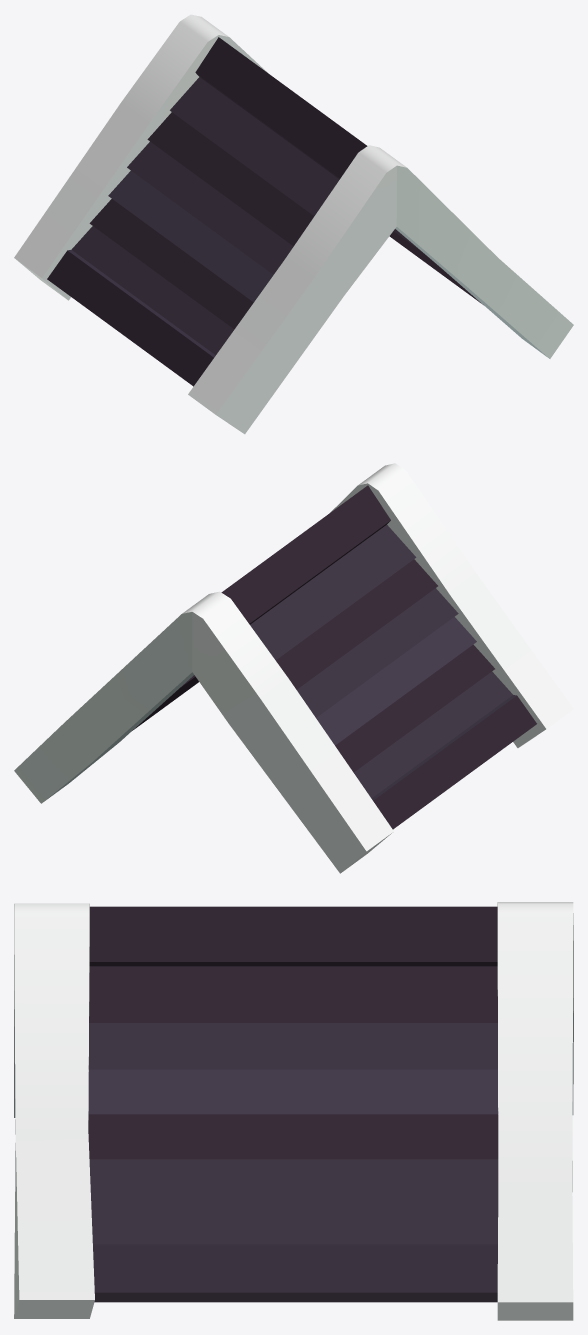
Rendered from Roof03_Black_White.glb.
3 views of the same model, one above another, from view 1: azimuth 30°, elevation 25°; view 2: azimuth 150°, elevation 25°; view 3: azimuth 270°, elevation 25° (orthographic). The views are drawn at different scales.
Parts seen in each view (by area): view 1: Roof03_Black_White; view 2: Roof03_Black_White; view 3: Roof03_Black_White.
Boxes of the visible parts, box(x1,y1,x2,y2) form: Roof03_Black_White: box(14, 14, 573, 434); Roof03_Black_White: box(14, 463, 573, 873); Roof03_Black_White: box(14, 902, 573, 1320).
Size of the model in its own units: 2.41 by 1.48 by 2.38.
Materials: 1 (1 with a texture image).
